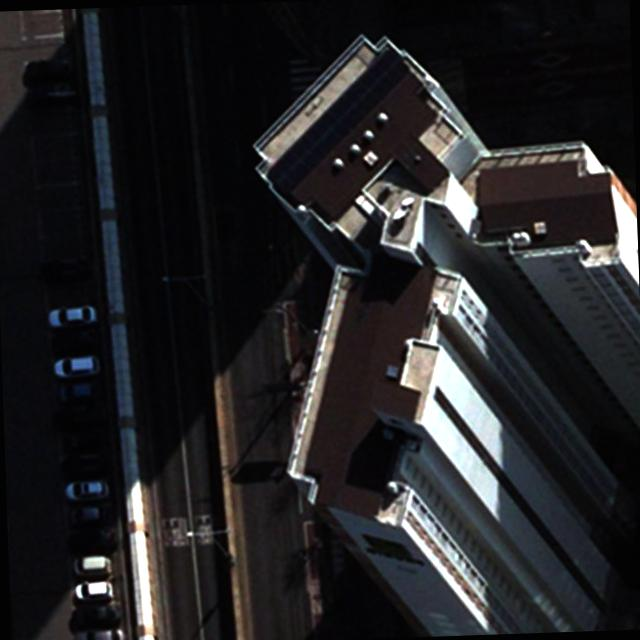solar: (262, 44, 416, 194)
